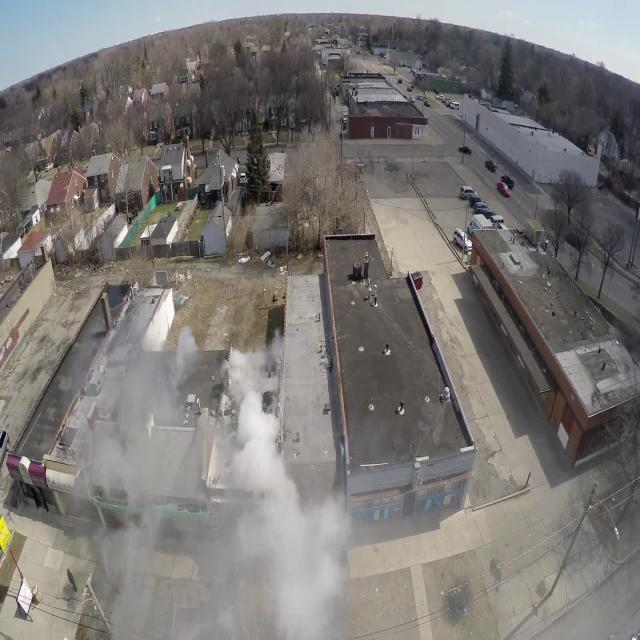Smoke: (223, 371, 351, 640), (90, 325, 194, 640)
